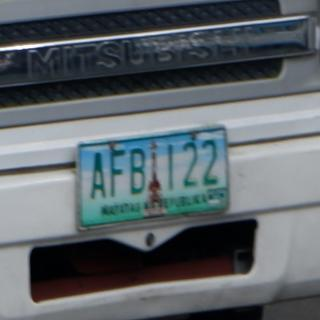license: (78, 128, 230, 230)
